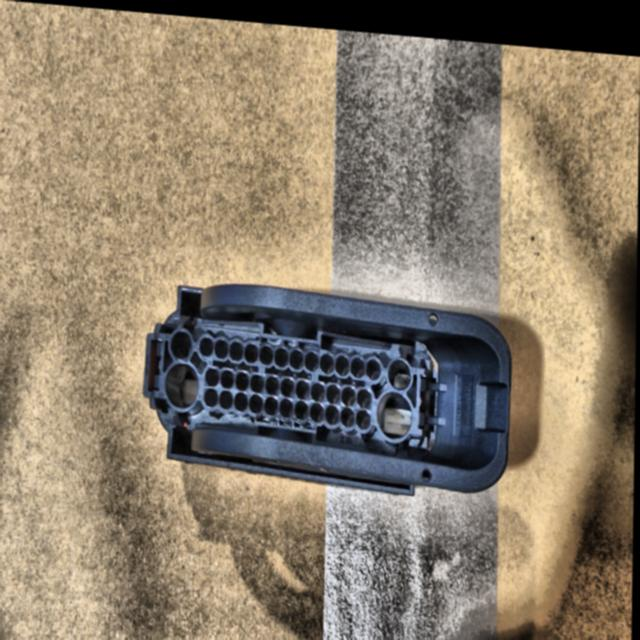P38: (144, 280, 512, 487)
